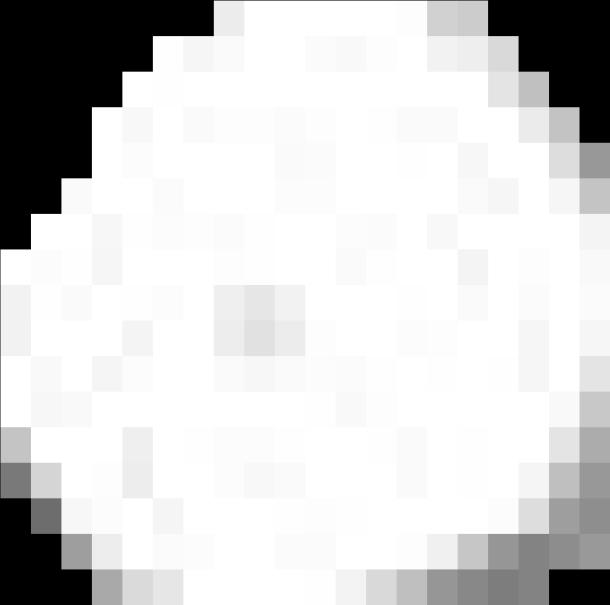tumor_good_chance: (0, 1, 610, 605)
